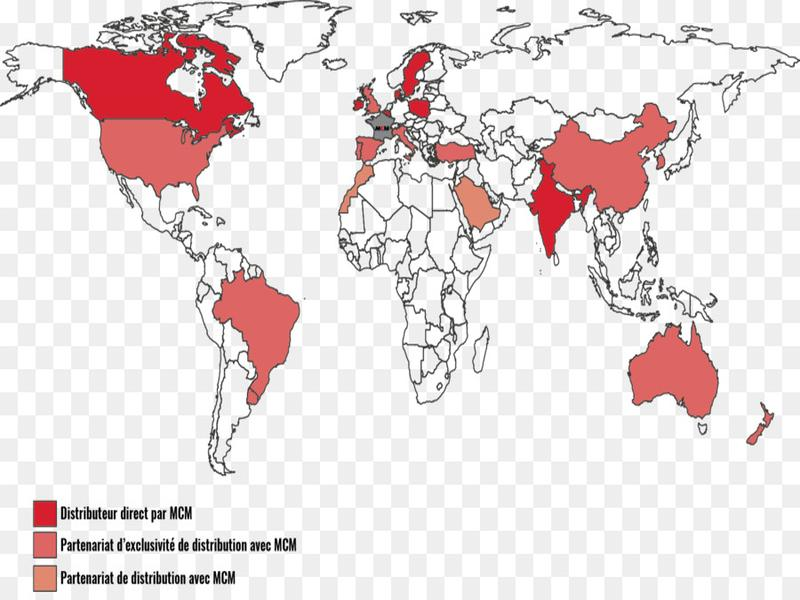legend: (30, 497, 300, 595)
